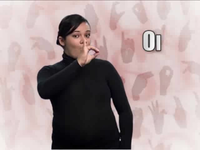oi: (80, 39, 99, 67)
